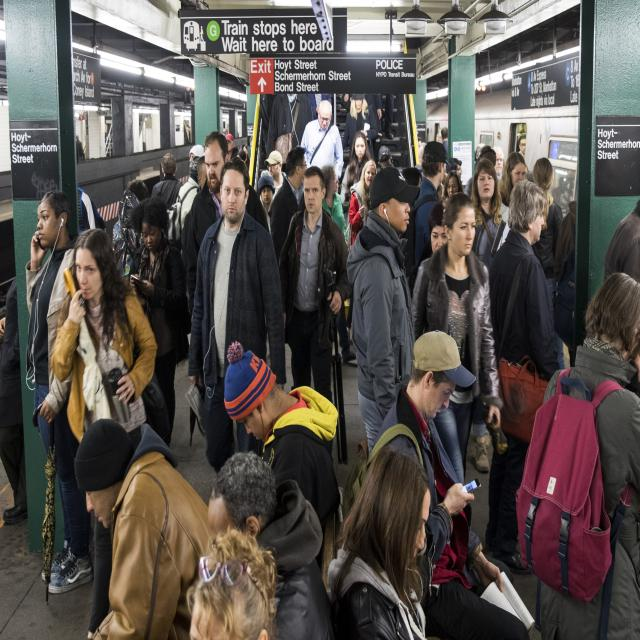body: (341, 330, 535, 640), (514, 266, 640, 640), (49, 227, 159, 639), (184, 154, 288, 477), (72, 416, 217, 640), (22, 187, 92, 600), (223, 341, 342, 583), (409, 190, 504, 488), (488, 178, 561, 562), (205, 450, 339, 639), (346, 165, 422, 458), (333, 448, 432, 640), (277, 165, 354, 407), (184, 130, 271, 326), (127, 196, 190, 450), (183, 530, 279, 638), (401, 126, 463, 256), (530, 157, 566, 370), (0, 274, 29, 525), (604, 190, 639, 396), (403, 139, 449, 295), (553, 160, 578, 370), (464, 135, 536, 207), (167, 142, 210, 259), (270, 146, 308, 268), (471, 159, 508, 273), (112, 178, 150, 278), (299, 99, 344, 182), (266, 93, 314, 170), (341, 131, 372, 232), (340, 93, 379, 166), (348, 158, 378, 250), (256, 93, 277, 221), (340, 93, 396, 141), (320, 164, 348, 248), (150, 151, 184, 212), (78, 184, 108, 242), (223, 129, 255, 181), (264, 150, 287, 198), (306, 93, 335, 127), (378, 144, 394, 168), (75, 135, 85, 164)
